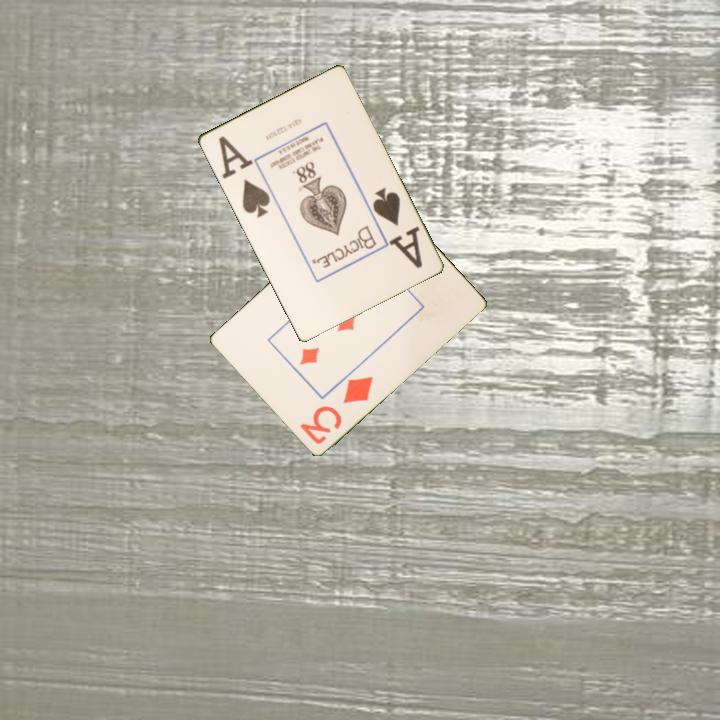3d: (296, 372, 376, 447)
As: (368, 183, 425, 271), (220, 141, 273, 221)
